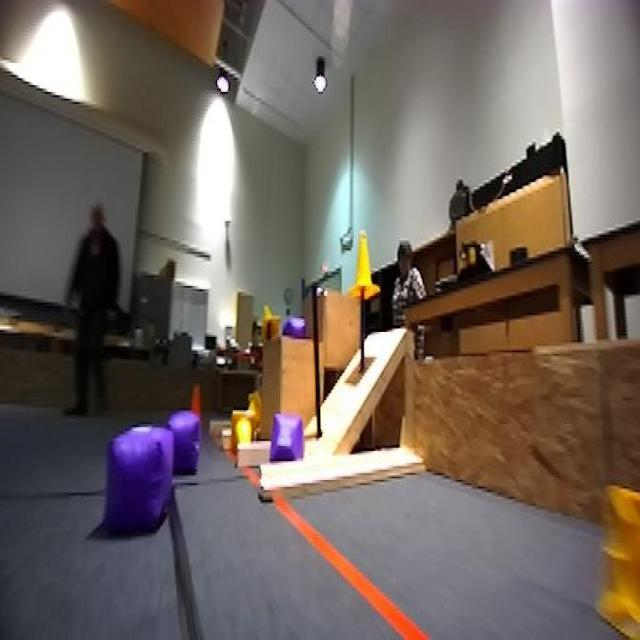frc_cone: (619, 430, 640, 640), (349, 235, 374, 293), (262, 305, 281, 344), (232, 410, 258, 438)
frc_cube: (103, 427, 176, 523), (165, 411, 204, 478), (268, 410, 304, 460), (272, 306, 316, 344)
